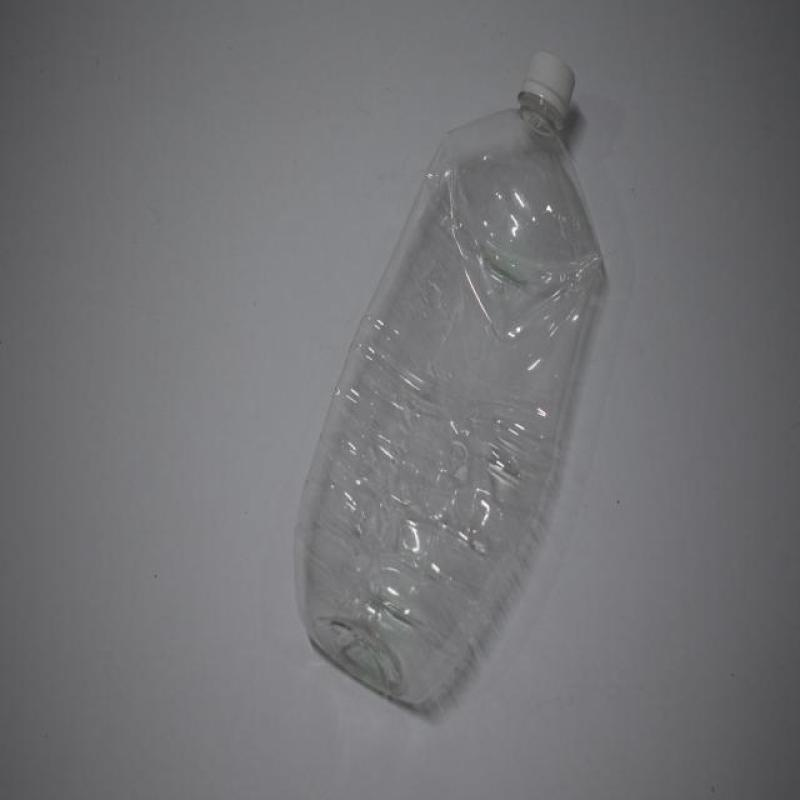botella: (289, 46, 610, 713)
